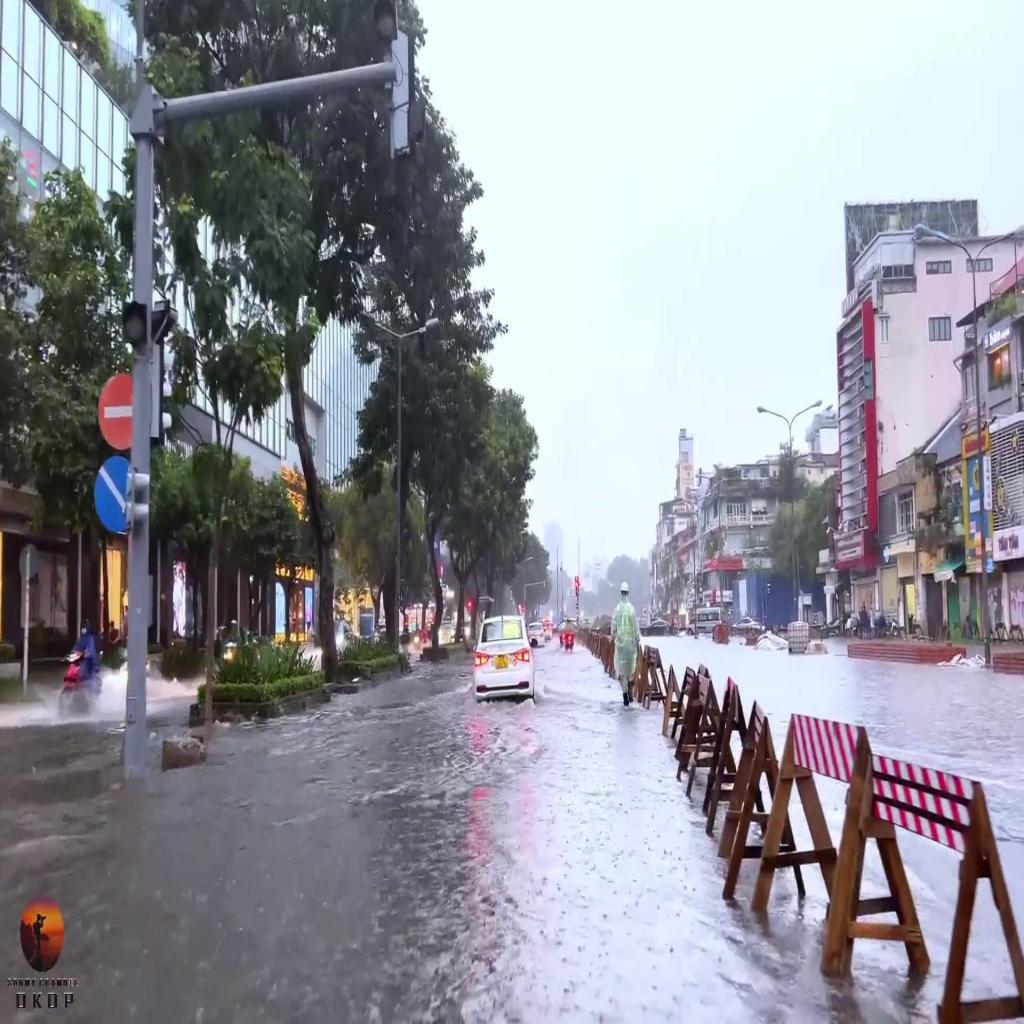cam_xe_di_nguoc_chieu: (98, 372, 133, 450)
huong_phai_di_vuot_chuong_ngai_vat_phai: (92, 453, 130, 534)
